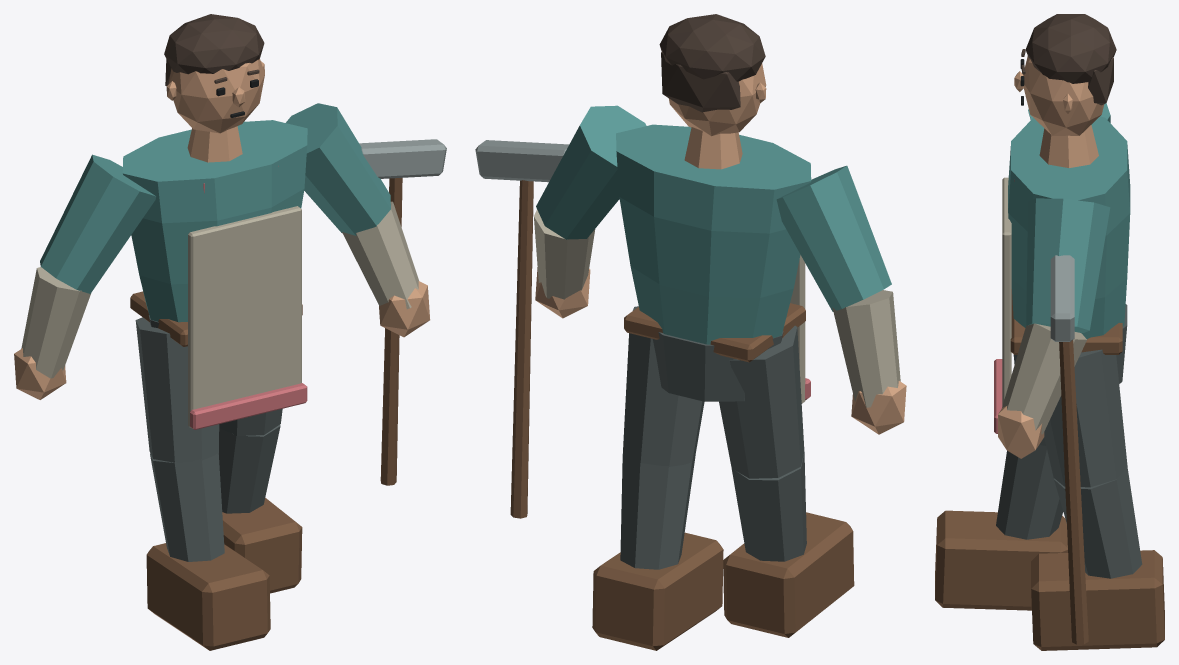
Rendered from npc_laborer_step_l_v01.glb.
The picture shows the model from 3 angles, left to right: view 1: azimuth 30°, elevation 25°; view 2: azimuth 150°, elevation 25°; view 3: azimuth 270°, elevation 25°; orthographic projection. The views are drawn at different scales.
Parts seen in each view (by area): view 1: GEO_npc_laborer_step_l_v01; view 2: GEO_npc_laborer_step_l_v01; view 3: GEO_npc_laborer_step_l_v01.
Boxes of the visible parts, <box> form: GEO_npc_laborer_step_l_v01: <box>14,14,446,650</box>; GEO_npc_laborer_step_l_v01: <box>475,14,906,650</box>; GEO_npc_laborer_step_l_v01: <box>935,14,1164,650</box>.
Bounding box in the file's own units: 1.56 × 2.06 × 0.7178.
